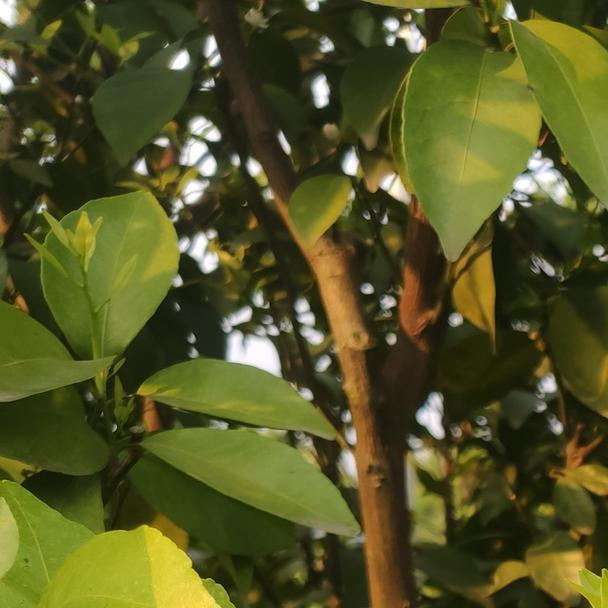shoot: (35, 212, 133, 343)
